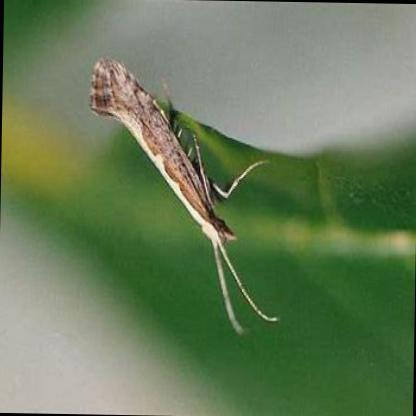plutella: (82, 46, 287, 332)
